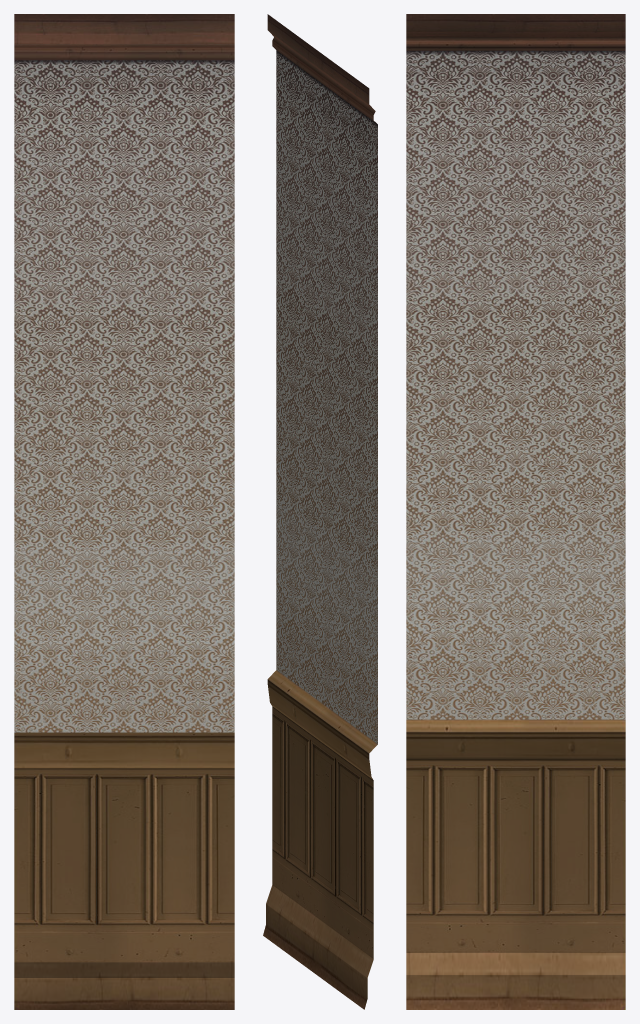
File: 5m_wall_L.fbx
3 renders of one model, left to right at view 1: azimuth 90°, elevation 25°; view 2: azimuth 210°, elevation 25°; view 3: azimuth 270°, elevation 25°, orthographic. The views are drawn at different scales.
Visible parts, largest first — view 1: wall_5m_half_L; view 2: wall_5m_half_L; view 3: wall_5m_half_L.
Boxes of the visible parts, x1=… form: wall_5m_half_L: x1=14, y1=14, x2=234, y2=1009; wall_5m_half_L: x1=263, y1=14, x2=377, y2=1009; wall_5m_half_L: x1=406, y1=14, x2=625, y2=1009.
Size of the model in its own units: 7.63 by 500 by 100.
1 material, 1 textured.
